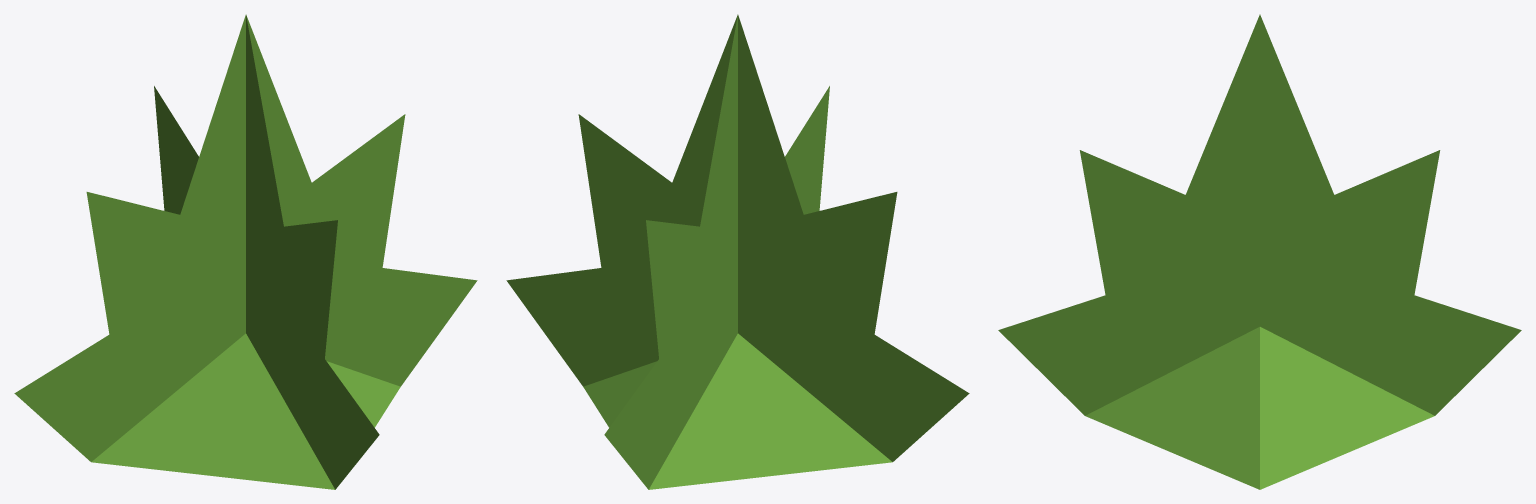
The model's file is plant_flatShort.glb.
3 renders of one model, left to right at view 1: azimuth 30°, elevation 25°; view 2: azimuth 150°, elevation 25°; view 3: azimuth 270°, elevation 25°, orthographic. The views are drawn at different scales.
Visible parts, largest first — view 1: plant_flatShort; view 2: plant_flatShort; view 3: plant_flatShort.
Boxes of the visible parts, x1,y1,x2,y2 form: plant_flatShort: (14, 14, 477, 489); plant_flatShort: (506, 14, 969, 489); plant_flatShort: (998, 14, 1521, 489).
Bounding box in the file's own units: 0.2776 × 0.2351 × 0.2776.
